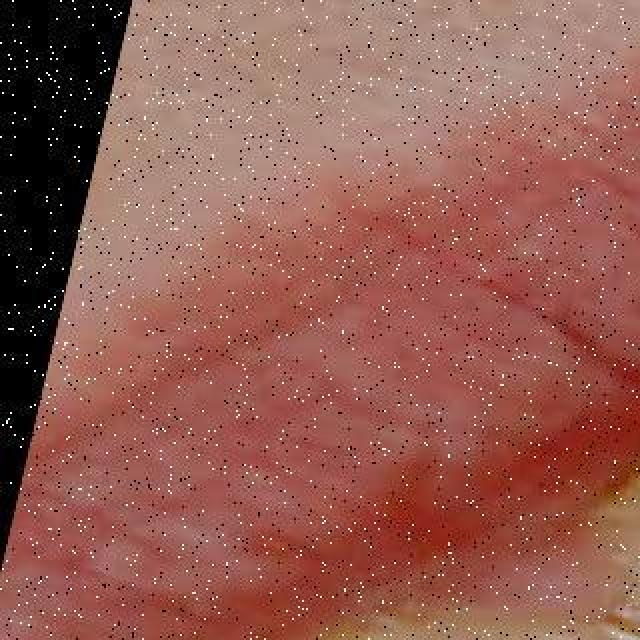cavities: (300, 552, 592, 640), (582, 406, 640, 640)
